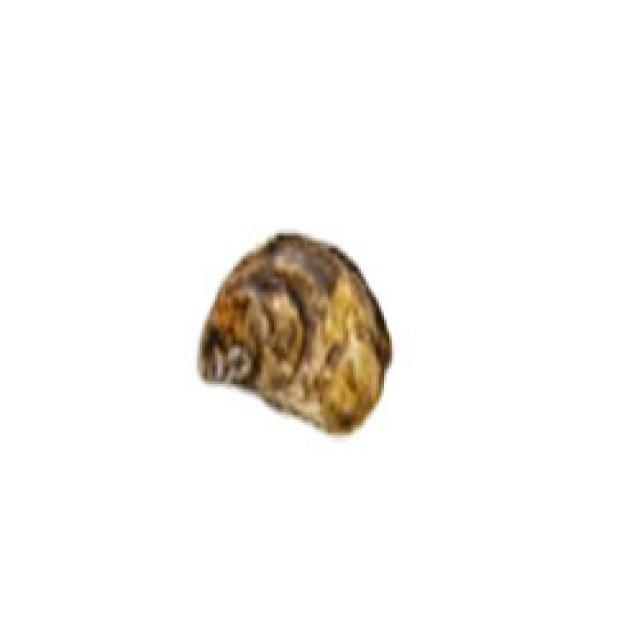Oyster- Indeterminate: (197, 232, 394, 438)
